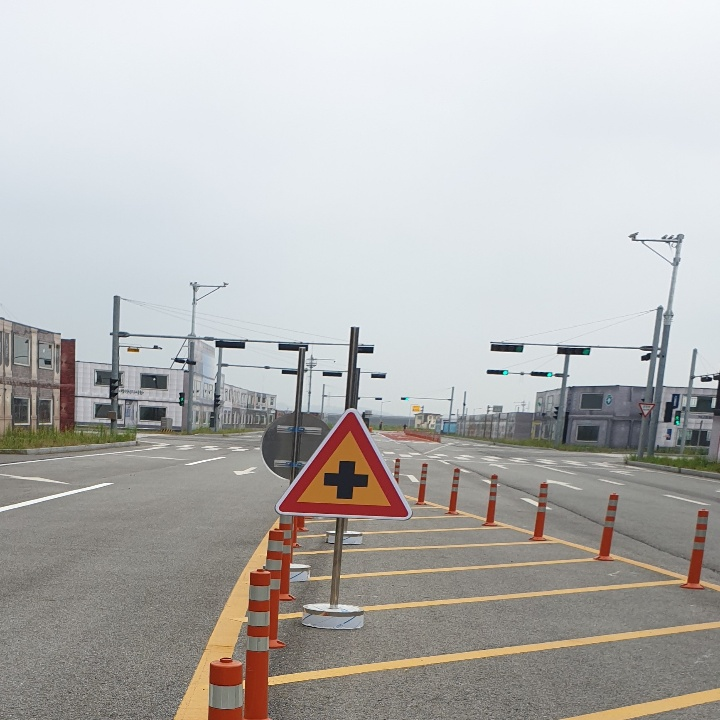inter: (318, 453, 371, 509)
